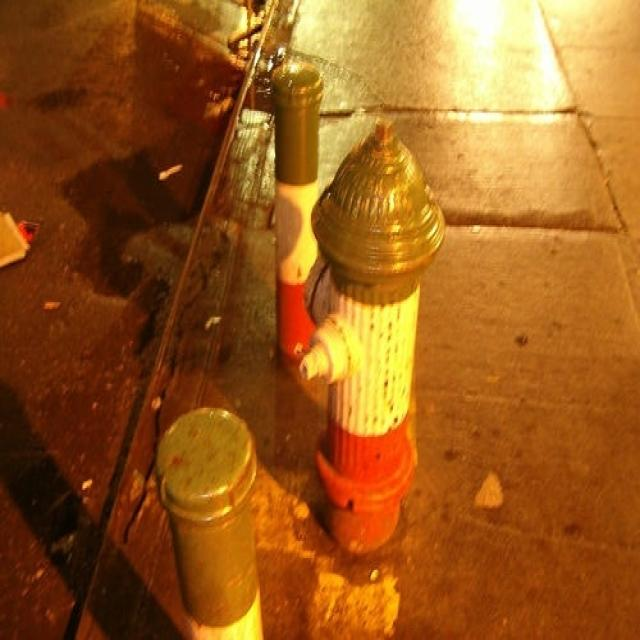fire_hydrant: (256, 124, 537, 607)
